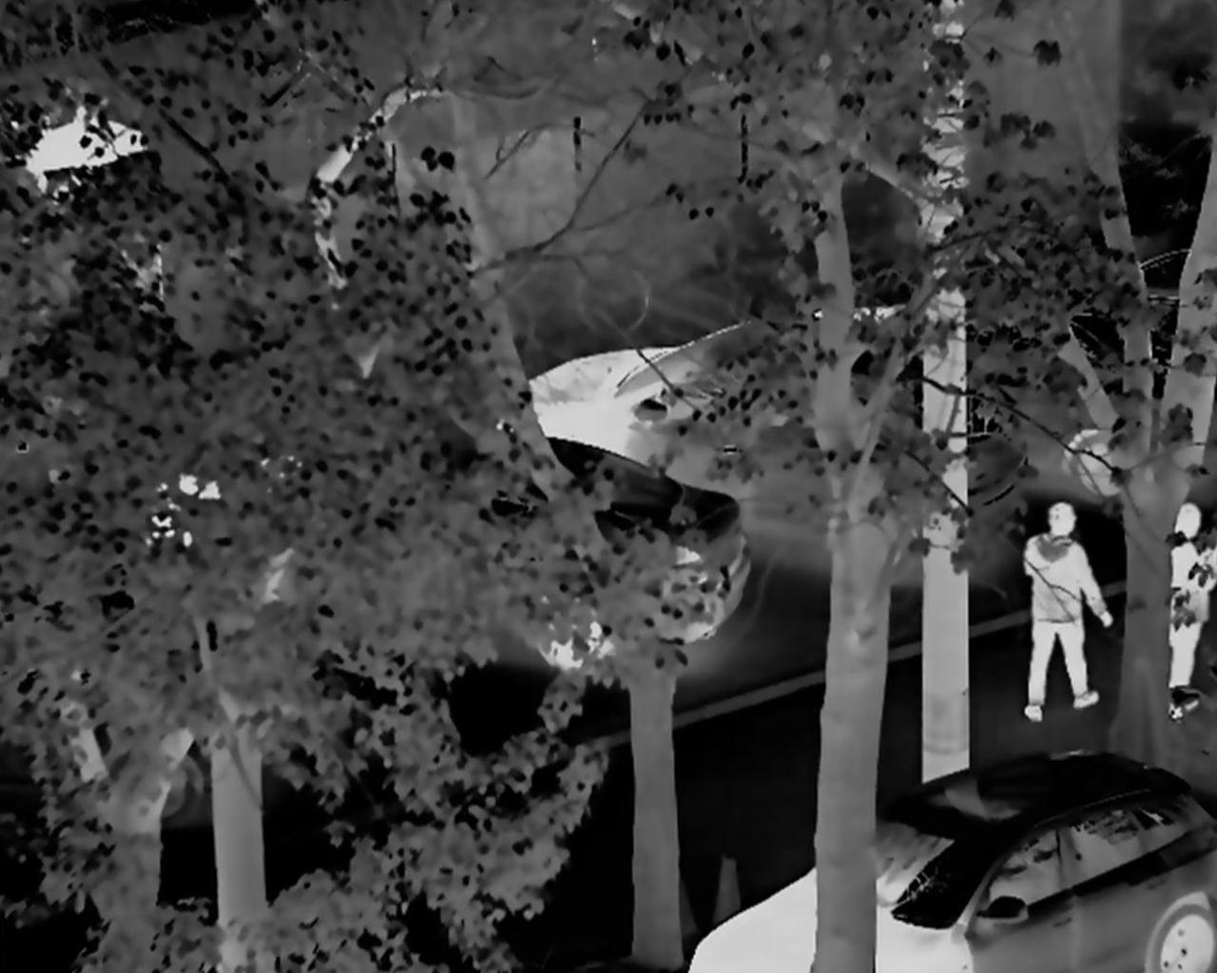person: (1005, 493, 1112, 727), (1160, 496, 1217, 719)
